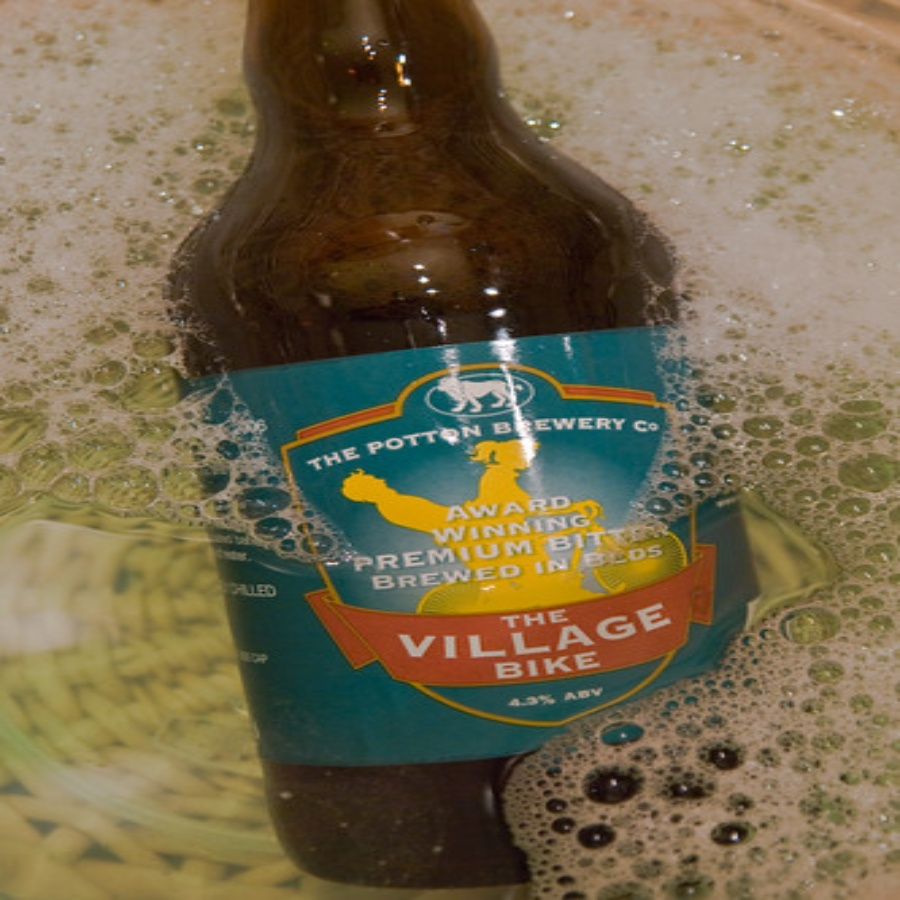beer: (172, 4, 775, 881)
